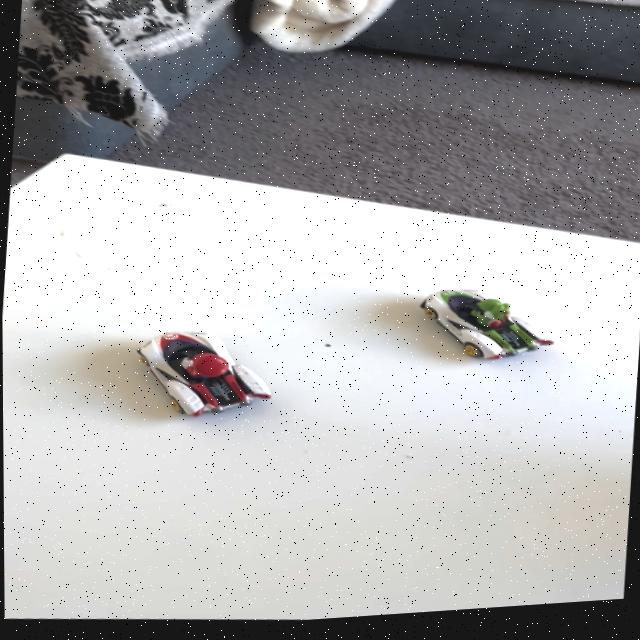mario: (112, 312, 293, 443)
yoshi: (399, 280, 572, 389)
